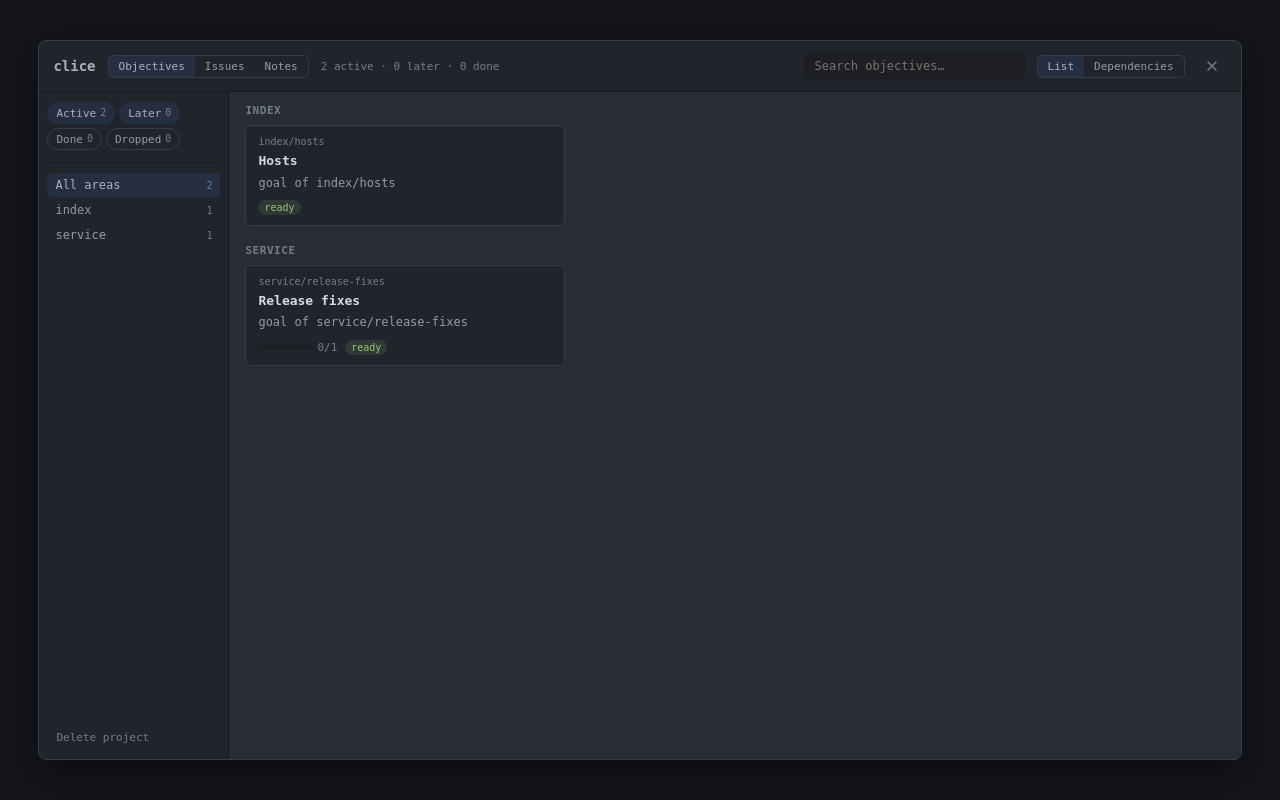
it: the issues view › says so when there are none yet
Click the button "Issues" at (225, 66), box [195, 56, 255, 76]
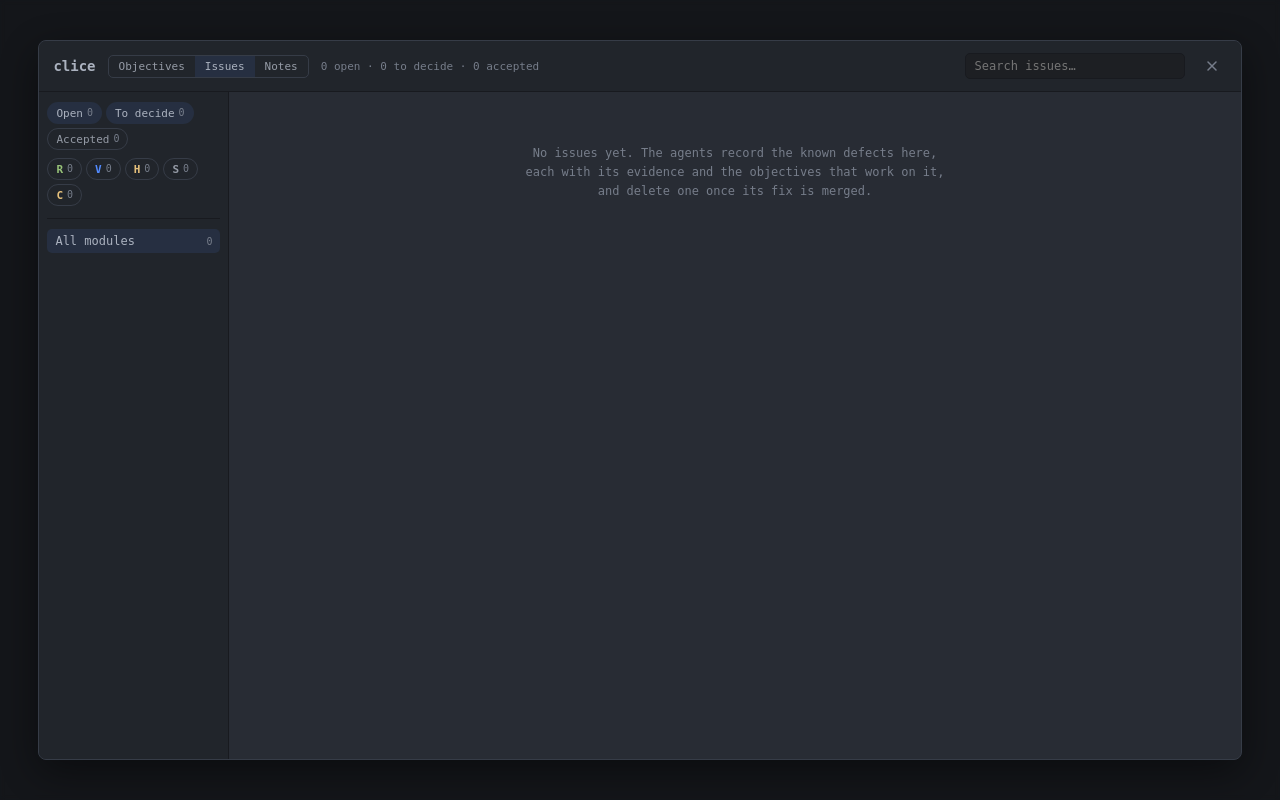
Now the text "No issues yet" is shown, box [526, 146, 944, 198]
